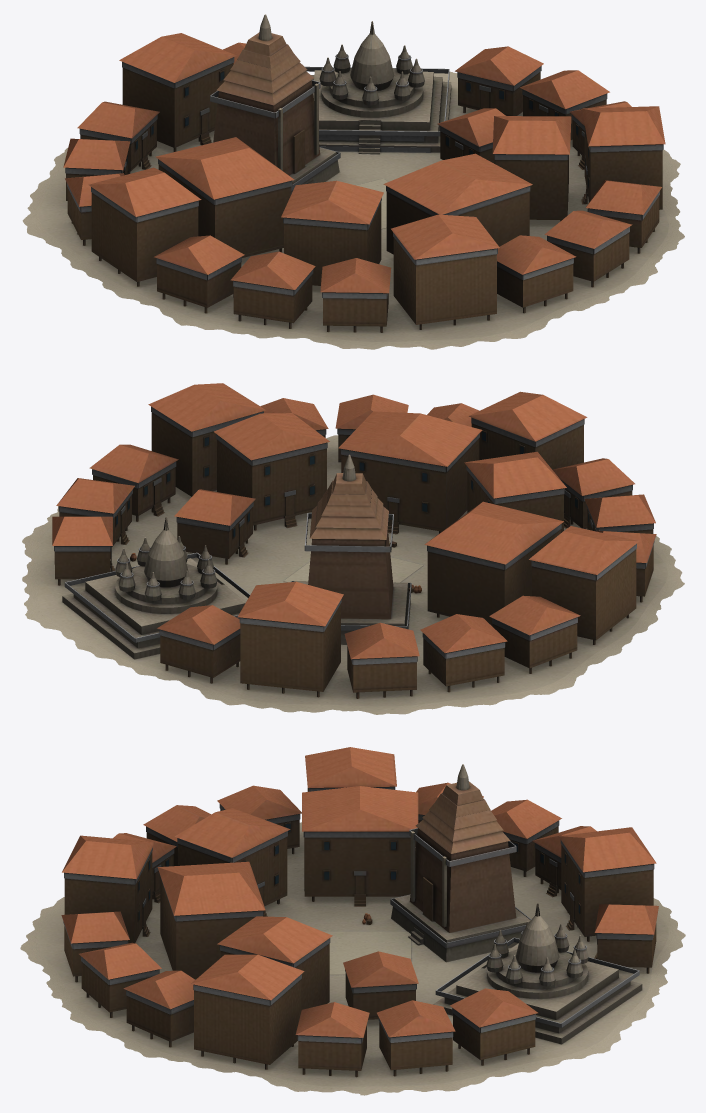
File: classical-town-big-a-monsoon-03d3d91d.glb
The picture shows the model from 3 angles, top to bottom: view 1: azimuth 30°, elevation 25°; view 2: azimuth 150°, elevation 25°; view 3: azimuth 270°, elevation 25°; orthographic projection.
Parts seen in each view (by area): view 1: LOD0; view 2: LOD0; view 3: LOD0.
Boxes of the visible parts, x1,y1,x2,y2 form: LOD0: [22, 14, 684, 349]; LOD0: [22, 383, 684, 714]; LOD0: [20, 747, 685, 1095].
Size of what is drawn, in the model's own units: 7.88 by 2.2 by 8.04.
3 materials, 3 textured.
